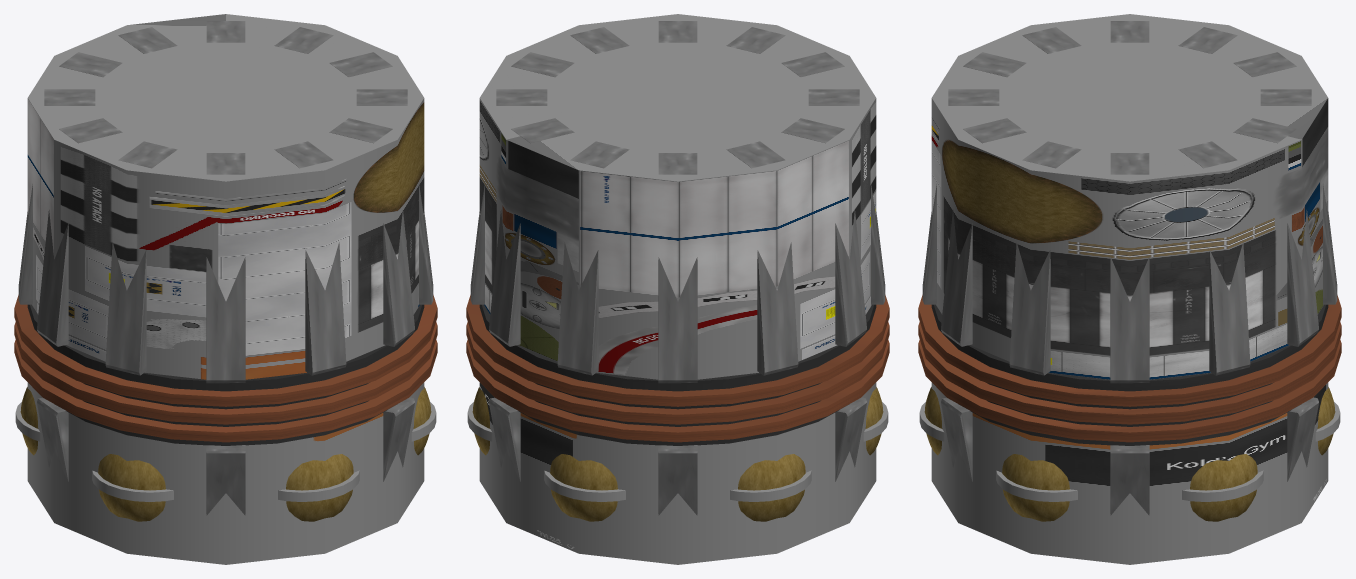
The model's file is FusionReactor.FBX.
3 views of the same model, side by side, from view 1: azimuth 30°, elevation 25°; view 2: azimuth 150°, elevation 25°; view 3: azimuth 270°, elevation 25° (orthographic).
Visible parts, largest first — view 1: Cylinder004, CopperTube001, CopperTube002, CopperTube003, Cylinder002, Electromagnet026, Electromagnet025, Electromagnet027, Electromagnet028, Electromagnet024, D3H3Tank005, D3H3Tank004 (+14 smaller); view 2: Cylinder004, CopperTube001, CopperTube002, CopperTube003, Cylinder002, Electromagnet022, Electromagnet021, Electromagnet023, Electromagnet024, Electromagnet020, D3H3Tank003, D3H3Tank002 (+14 smaller); view 3: Cylinder004, CopperTube001, CopperTube002, CopperTube003, Cylinder002, Electromagnet001, Electromagnet029, Electromagnet019, Electromagnet020, Electromagnet028, D3H3Tank001, D3H3Tank006 (+14 smaller).
Boxes of the visible parts, x1=… form: Cylinder004: x1=27, y1=14, x2=424, y2=564; CopperTube001: x1=14, y1=295, x2=437, y2=406; CopperTube002: x1=14, y1=322, x2=437, y2=424; CopperTube003: x1=14, y1=340, x2=437, y2=442; Cylinder002: x1=27, y1=304, x2=424, y2=445; Electromagnet026: x1=206, y1=153, x2=245, y2=383; Electromagnet025: x1=105, y1=141, x2=177, y2=375; Electromagnet027: x1=274, y1=141, x2=346, y2=375; Electromagnet028: x1=329, y1=118, x2=414, y2=346; Electromagnet024: x1=37, y1=118, x2=122, y2=346; D3H3Tank005: x1=286, y1=454, x2=353, y2=521; D3H3Tank004: x1=98, y1=454, x2=165, y2=521; Cylinder004: x1=479, y1=14, x2=876, y2=564; CopperTube001: x1=466, y1=295, x2=889, y2=406; CopperTube002: x1=466, y1=322, x2=889, y2=424; CopperTube003: x1=466, y1=340, x2=889, y2=442; Cylinder002: x1=479, y1=304, x2=876, y2=445; Electromagnet022: x1=658, y1=153, x2=697, y2=383; Electromagnet021: x1=557, y1=141, x2=629, y2=375; Electromagnet023: x1=726, y1=141, x2=798, y2=375; Electromagnet024: x1=781, y1=118, x2=866, y2=346; Electromagnet020: x1=489, y1=118, x2=574, y2=346; D3H3Tank003: x1=738, y1=454, x2=805, y2=521; D3H3Tank002: x1=550, y1=454, x2=617, y2=521; Cylinder004: x1=931, y1=14, x2=1328, y2=564; CopperTube001: x1=918, y1=295, x2=1341, y2=406; CopperTube002: x1=918, y1=322, x2=1341, y2=424; CopperTube003: x1=918, y1=340, x2=1341, y2=442; Cylinder002: x1=931, y1=304, x2=1328, y2=445; Electromagnet001: x1=1110, y1=153, x2=1149, y2=383; Electromagnet029: x1=1009, y1=141, x2=1081, y2=375; Electromagnet019: x1=1178, y1=141, x2=1250, y2=375; Electromagnet020: x1=1233, y1=118, x2=1318, y2=346; Electromagnet028: x1=941, y1=118, x2=1026, y2=346; D3H3Tank001: x1=1190, y1=454, x2=1257, y2=521; D3H3Tank006: x1=1002, y1=454, x2=1069, y2=521.
Size of the model in its own units: 2 by 2 by 2.
Materials: 1 (1 with a texture image).
